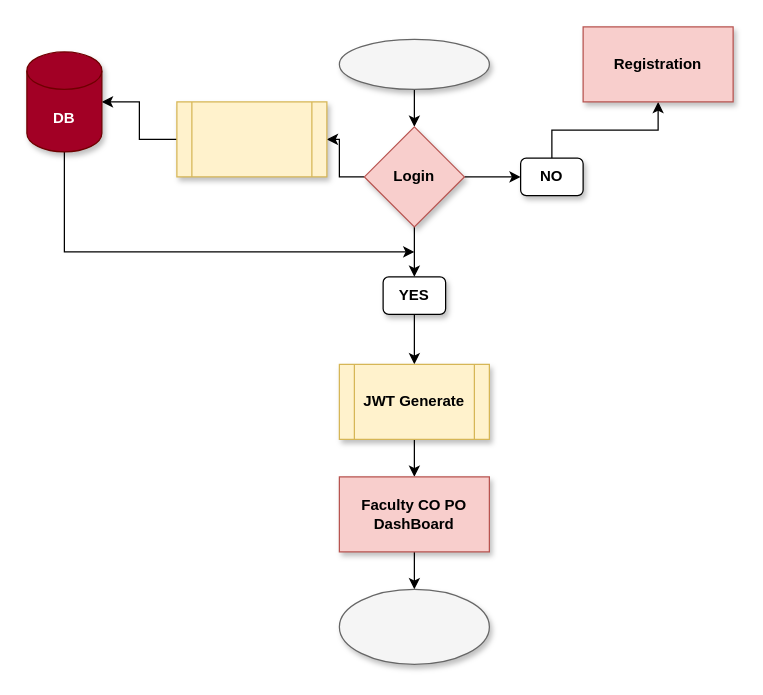
This 763x695 diagram has some shape labels left out. Each missing label, with the centre of its shape:
"END" belongs at (415,628).
"Password Decryption" belongs at (252,141).
"Start" belongs at (415,65).
